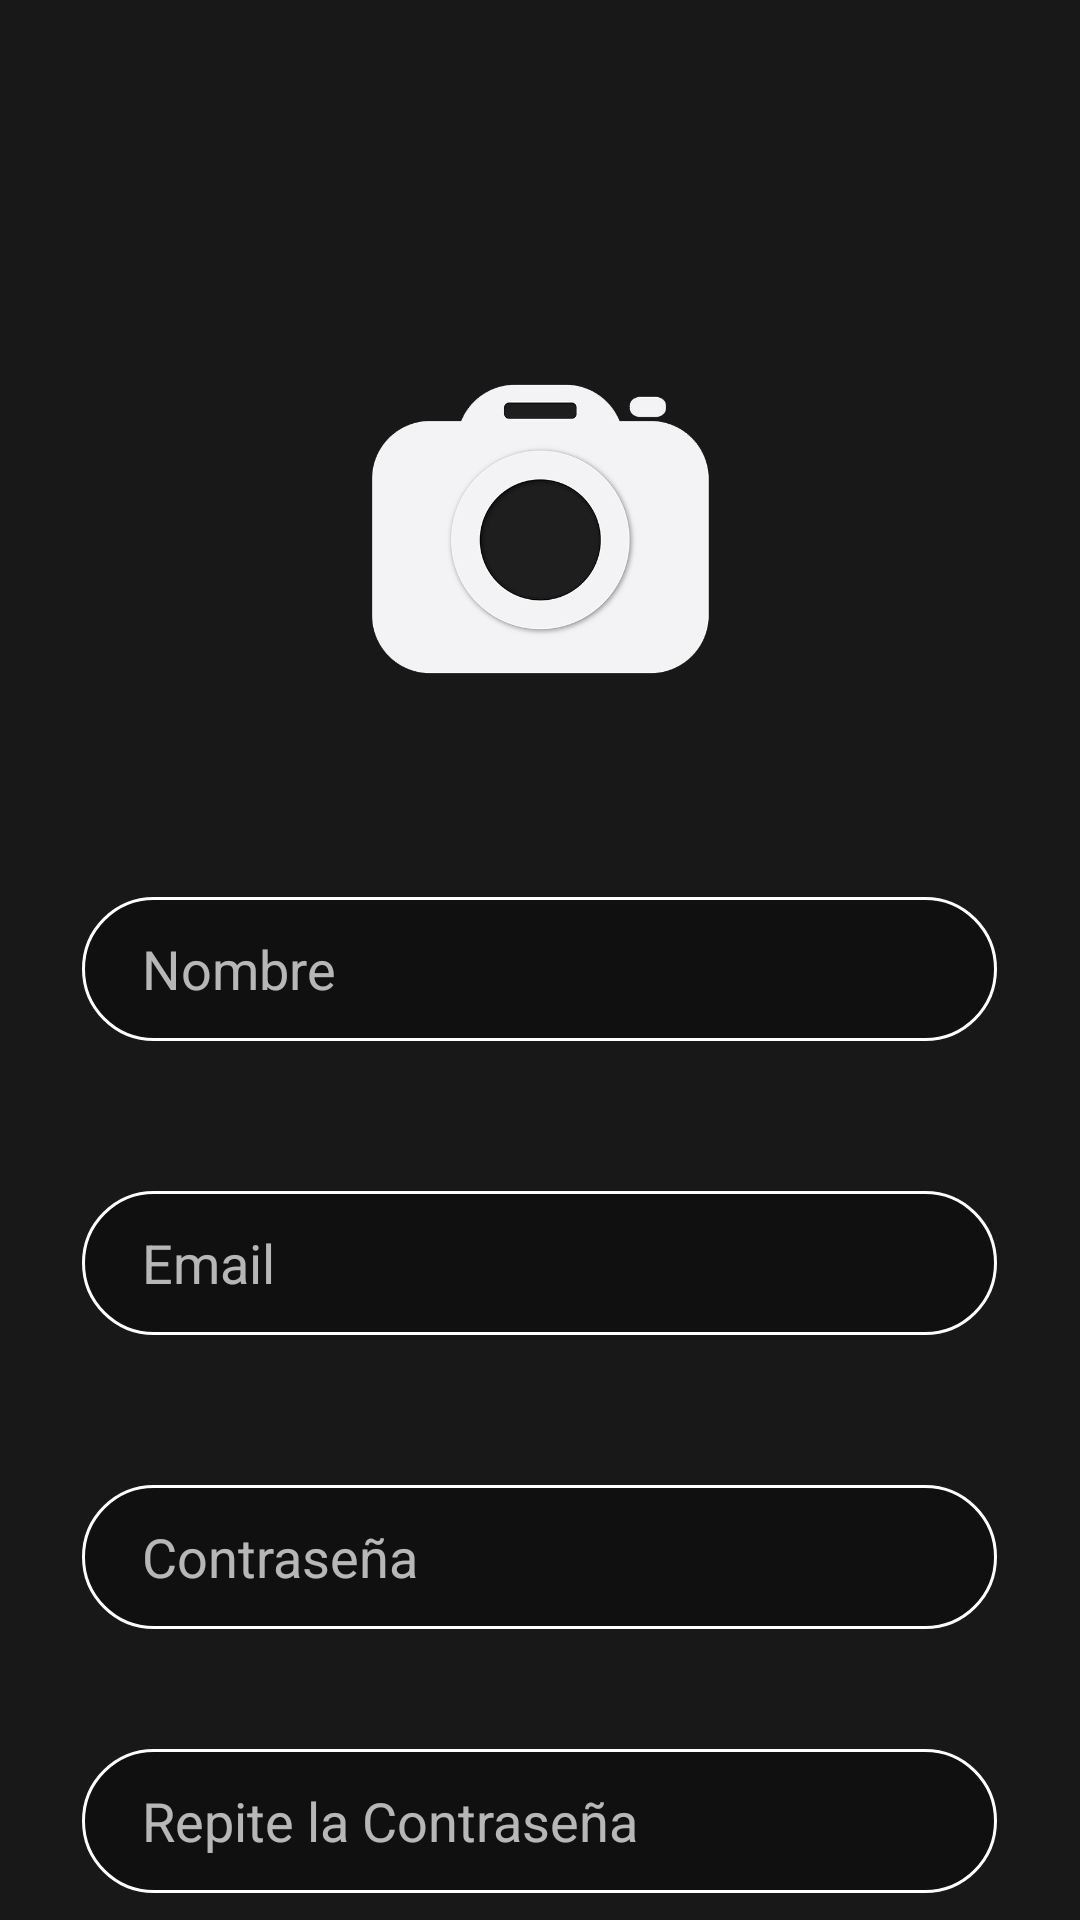

Where icons sit on this 1080x1920 app screen, as (x1, y1, x2, y2):
camera: (372, 384, 709, 673)
